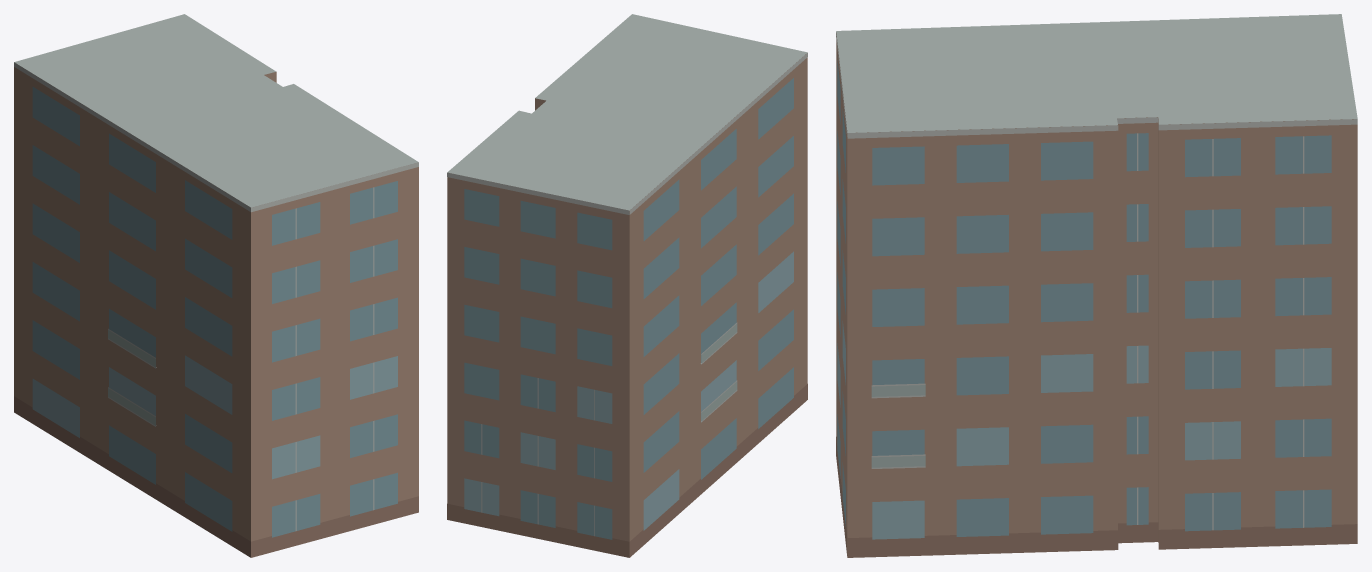
File: survey-upis-32962566.glb
3 renders of one model, left to right at view 1: azimuth 30°, elevation 25°; view 2: azimuth 150°, elevation 25°; view 3: azimuth 270°, elevation 25°, orthographic. The views are drawn at different scales.
Visible parts, largest first — view 1: survey-upis-32962566.tmp; view 2: survey-upis-32962566.tmp; view 3: survey-upis-32962566.tmp.
Boxes of the visible parts, box(x1,y1,x2,y2) form: survey-upis-32962566.tmp: box(14, 14, 418, 557); survey-upis-32962566.tmp: box(447, 14, 807, 557); survey-upis-32962566.tmp: box(836, 14, 1357, 557).
Size of the model in its own units: 11 by 18.3 by 20.37.
